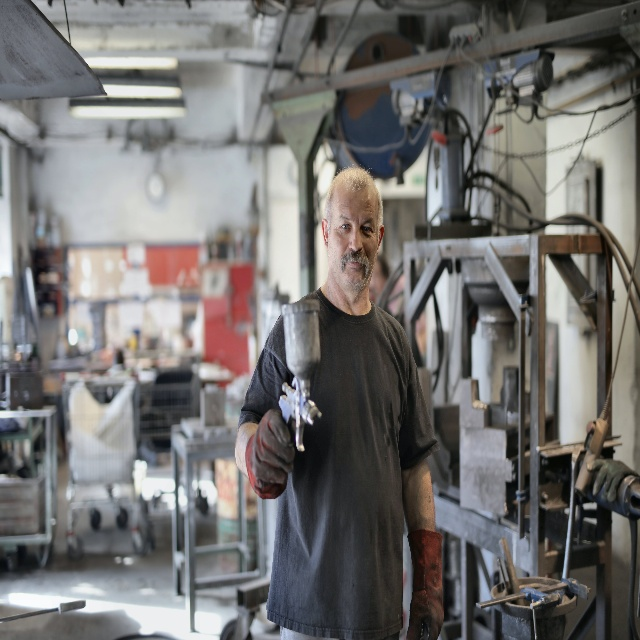Guantes: (245, 406, 296, 501), (405, 525, 444, 640)
